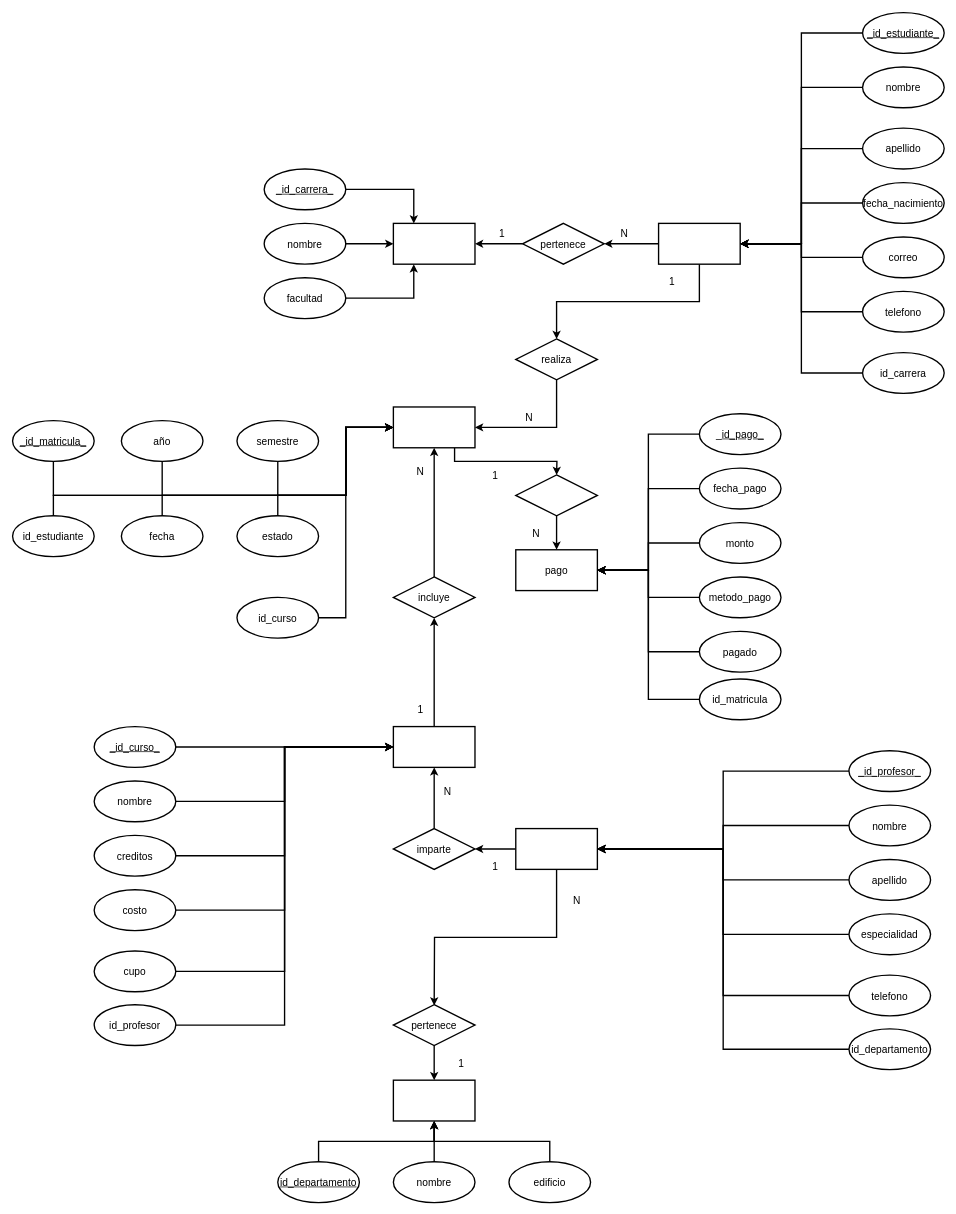
Image size: 956x1214. Some labels were removed from this diagram. The shapes that lost their labels are listed below. From the top down, each one's centre as x and y in pixels, then its label:
At (x=433, y=243): "carrera".
At (x=699, y=243): "estudiante".
At (x=433, y=427): "matricula".
At (x=556, y=495): "se paga con".
At (x=433, y=747): "curso".
At (x=556, y=849): "profesor".
At (x=433, y=1100): "departamento".
